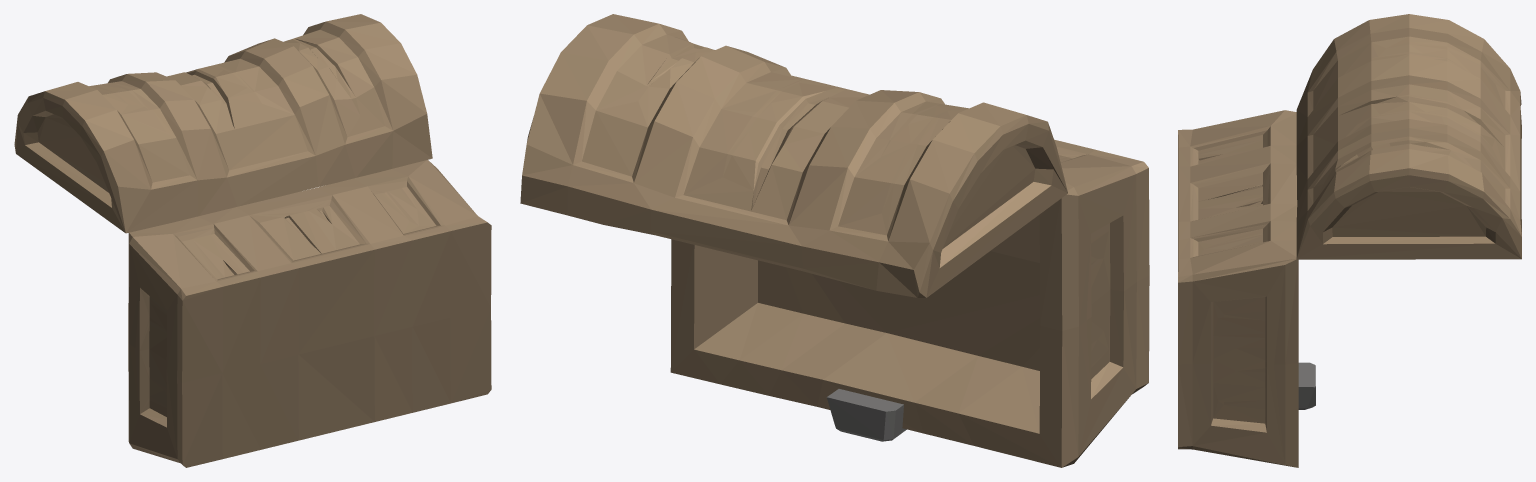
Rendered from props_container_chest_01b.glb.
3 renders of one model, left to right at view 1: azimuth 30°, elevation 25°; view 2: azimuth 150°, elevation 25°; view 3: azimuth 270°, elevation 25°, orthographic. The views are drawn at different scales.
Visible parts, largest first — view 1: utileria.props_container_chest_01b; view 2: utileria.props_container_chest_01b; view 3: utileria.props_container_chest_01b.
Boxes of the visible parts, x1,y1,x2,y2 form: utileria.props_container_chest_01b: (14, 14, 491, 467); utileria.props_container_chest_01b: (520, 14, 1149, 467); utileria.props_container_chest_01b: (1178, 14, 1521, 467).
Bounding box in the file's own units: 0.9661 × 0.9 × 0.8982.
